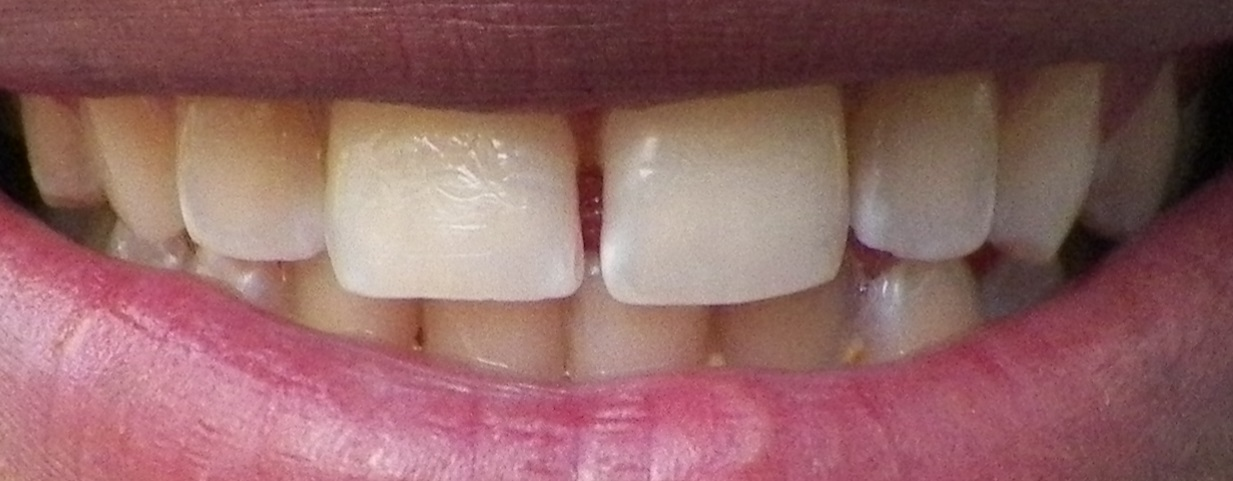boca: (30, 72, 1198, 394)
